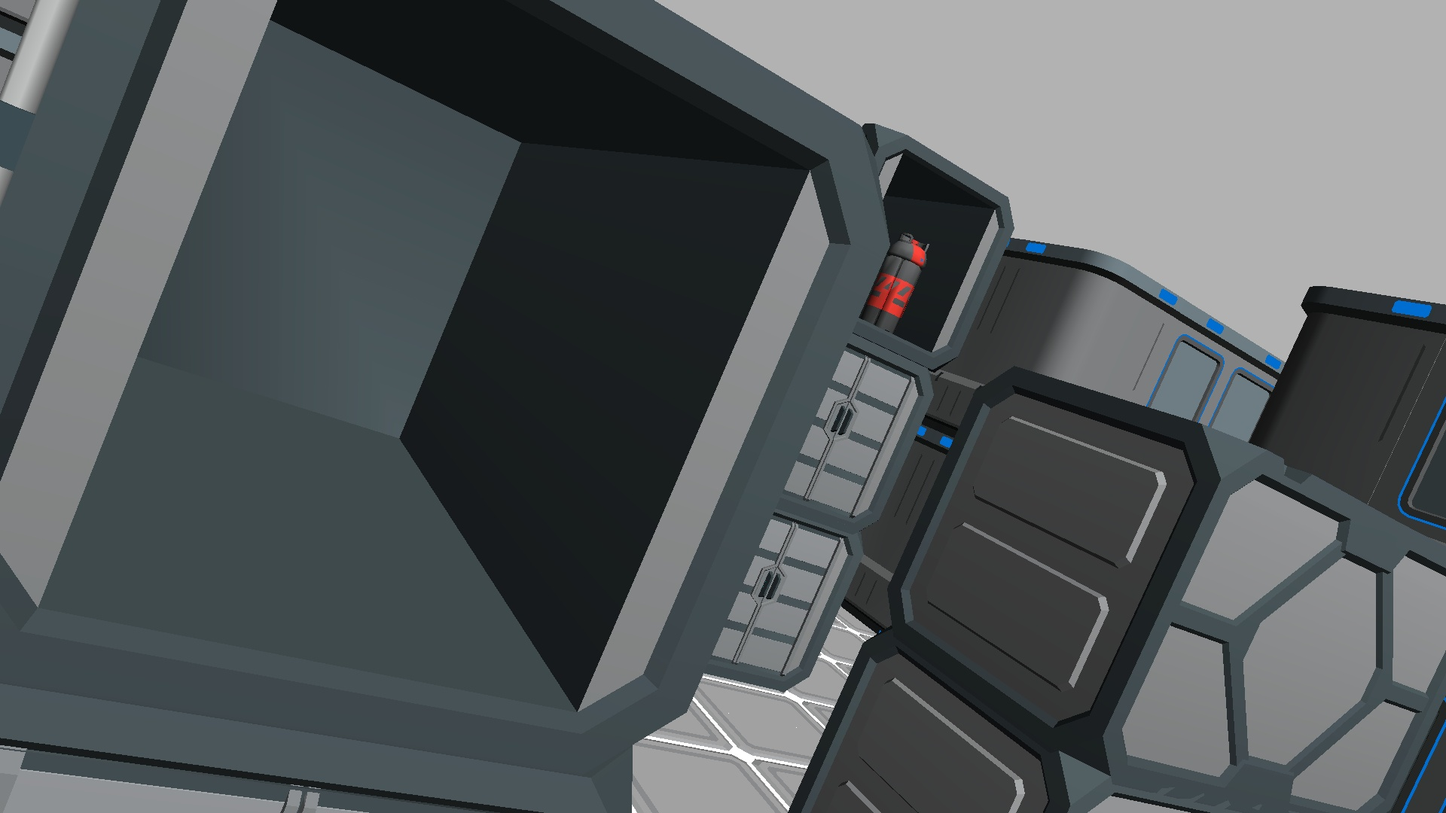red barrel: (859, 233, 930, 333)
